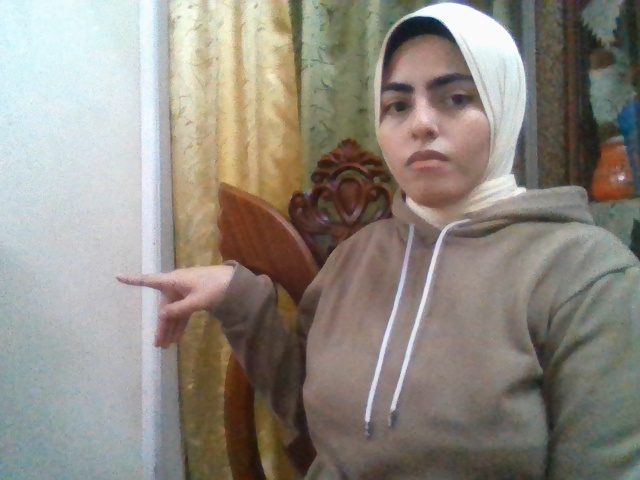P: (115, 263, 233, 349)
